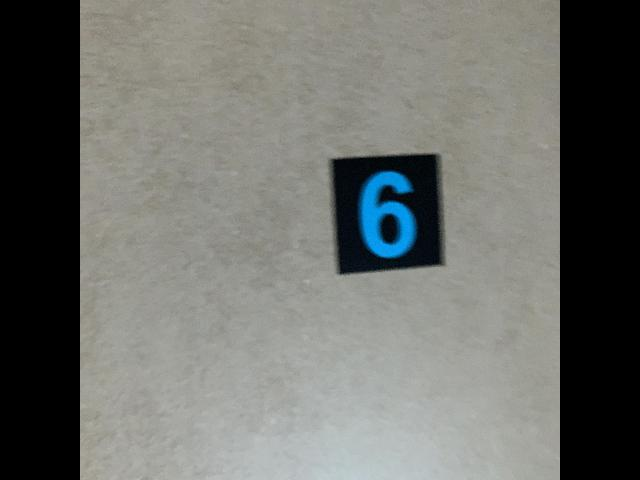six: (326, 152, 448, 281)
